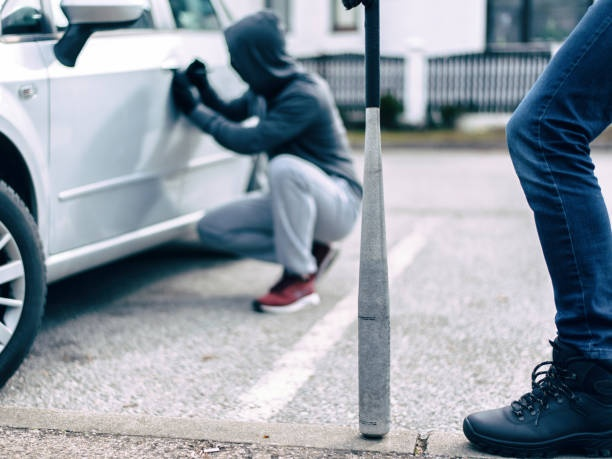bita: (355, 1, 398, 433)
